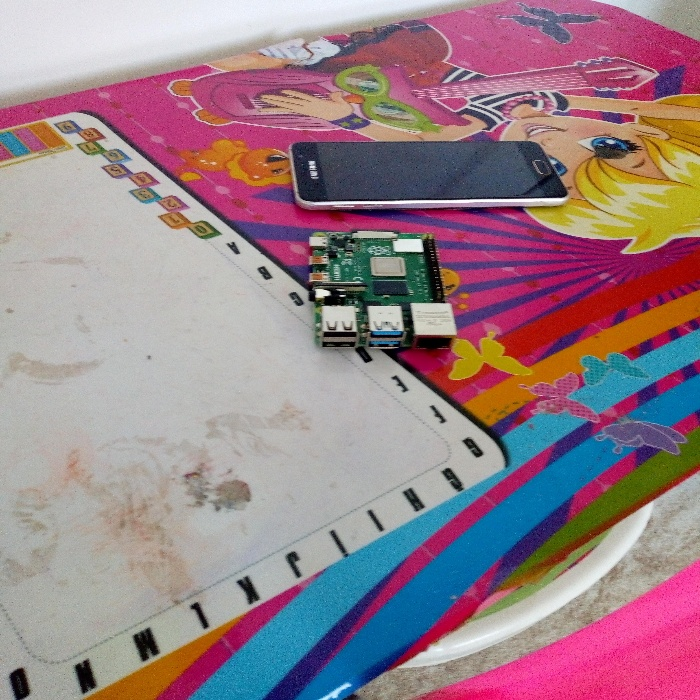raspberry: (276, 218, 460, 357)
